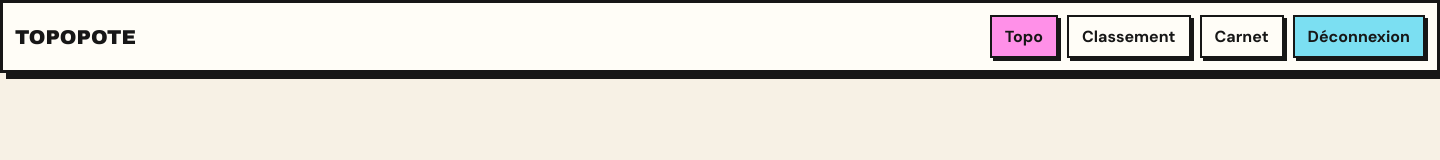
Test: PrimaryNav › désactive la déconnexion et affiche son état tant que la requête est en cours
The image size is (1440, 160).
Click the button "Déconnexion": (1359, 36) [1293,15,1425,58]
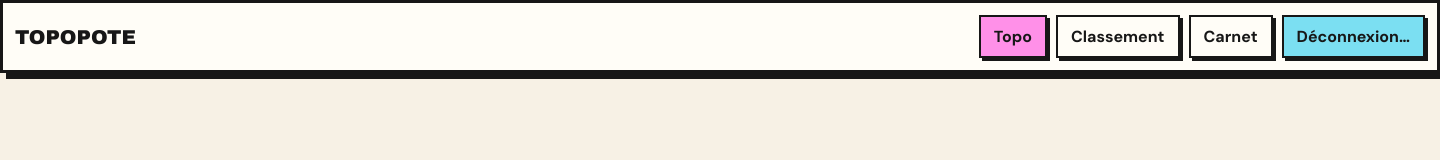
Now the button "Déconnexion…" is disabled
Click the button "Déconnexion…": (1353, 36) [1282,15,1425,58]
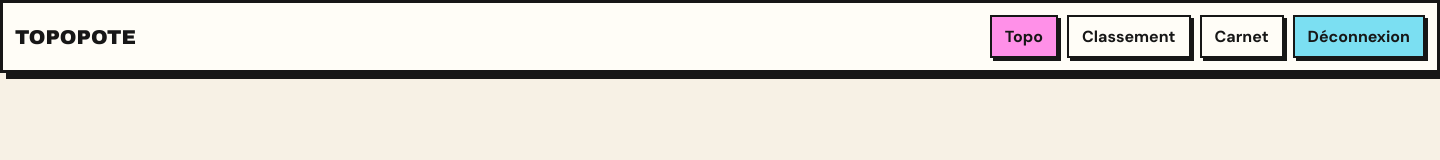
Now the button "Déconnexion" is enabled, box [1293,15,1425,58]
